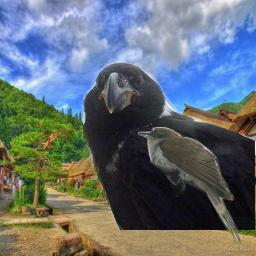Crow: (80, 61, 255, 230)
Cuckoo: (138, 127, 242, 245)
